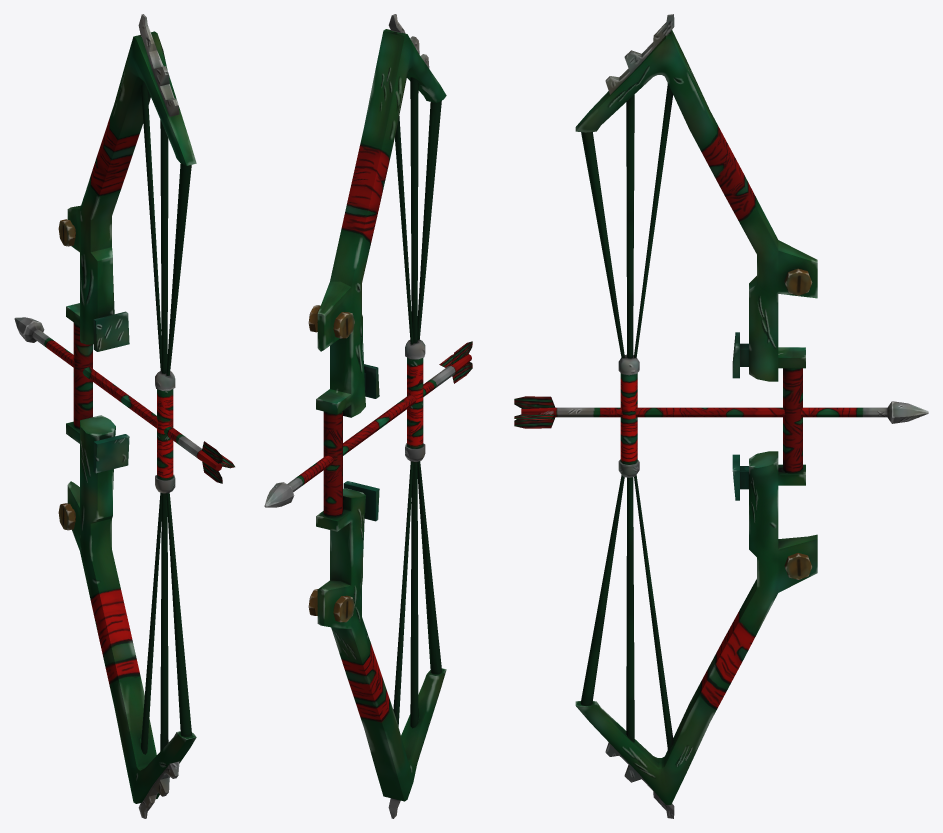
Rendered from bow.glb.
3 renders of one model, left to right at view 1: azimuth 30°, elevation 25°; view 2: azimuth 150°, elevation 25°; view 3: azimuth 270°, elevation 25°, orthographic.
Visible parts, largest first — view 1: Bow, Arrow; view 2: Bow, Arrow; view 3: Bow, Arrow.
Boxes of the visible parts, x1,y1,x2,y2 form: Bow: (58, 14, 196, 818); Arrow: (14, 317, 234, 483); Bow: (308, 14, 446, 818); Arrow: (264, 341, 472, 507); Bow: (575, 14, 817, 818); Arrow: (514, 396, 928, 428).
Size of the model in its own units: 0.046 by 0.972 by 0.4543.
1 material, 1 textured.
